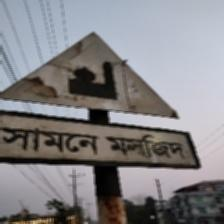Mosque in front: (0, 28, 192, 169)
